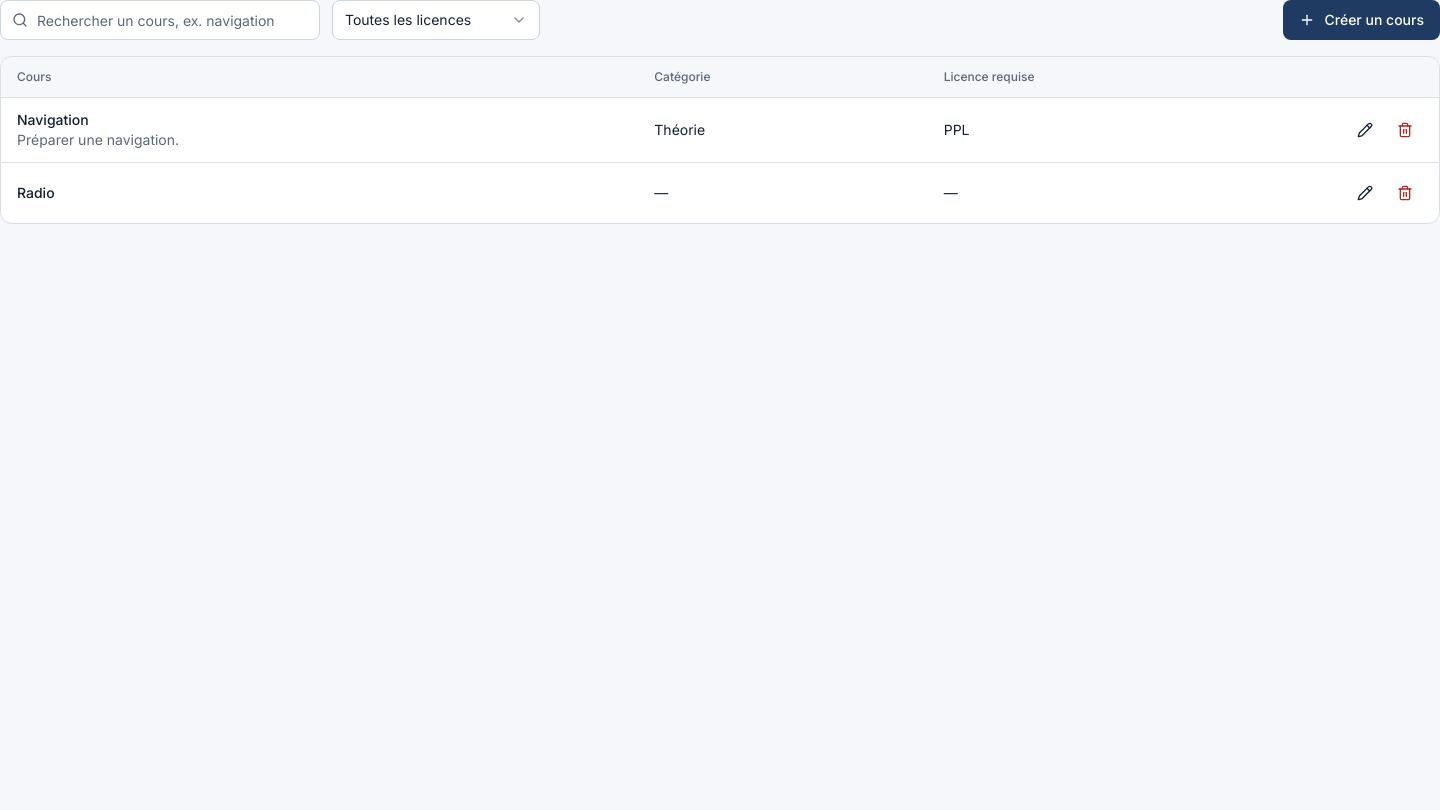
CourseManagement › demande confirmation, en nommant le cours, avant de le supprimer
Expected: the table is shown, [1,57,1439,222]
Click the button named "Supprimer le cours Radio": x=1405, y=192 [1387,174,1423,210]
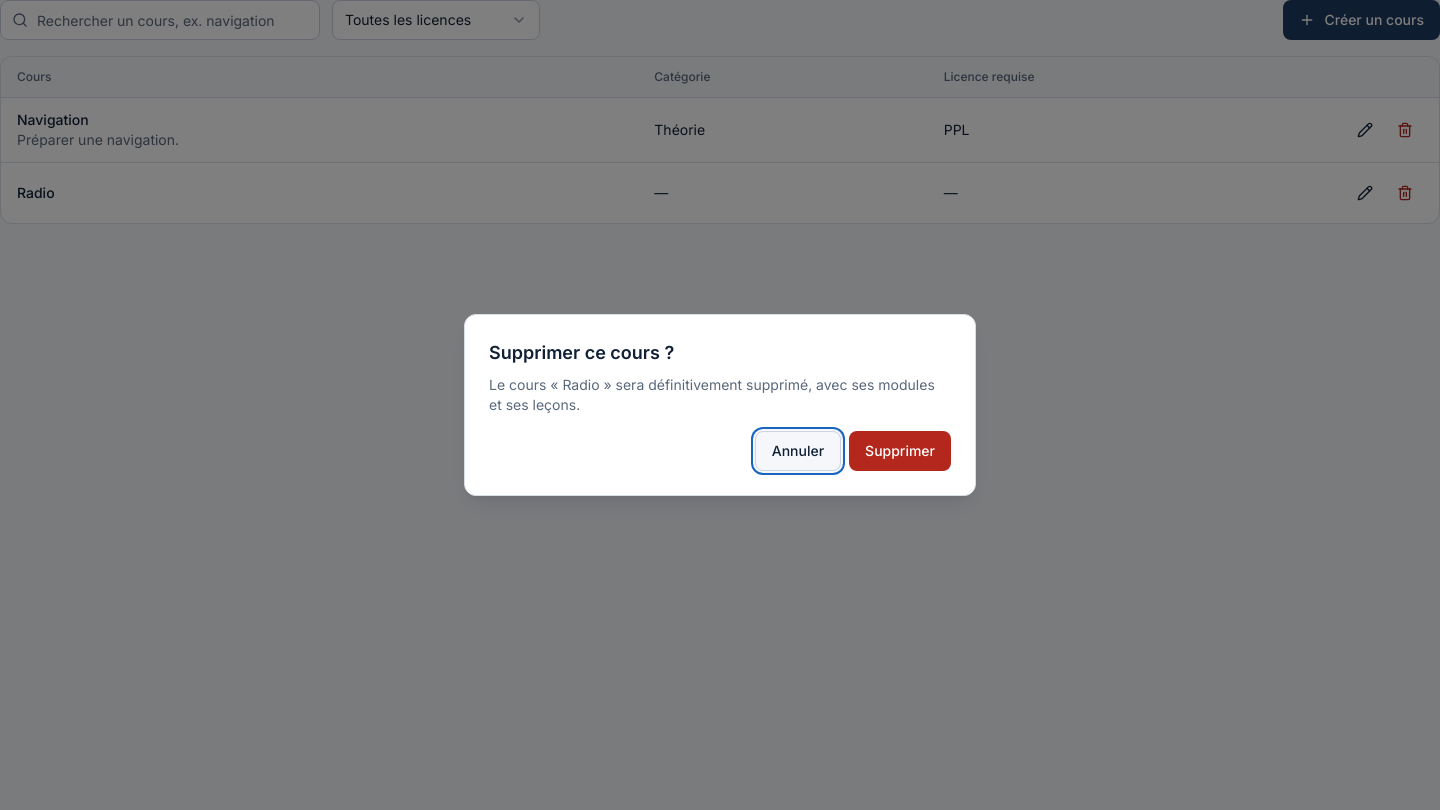
Expected: the text "Le cours « Radio » sera définitivement supprimé" is shown, [489,376,935,413]
Click the button "Supprimer": x=900, y=451 [849,431,951,471]
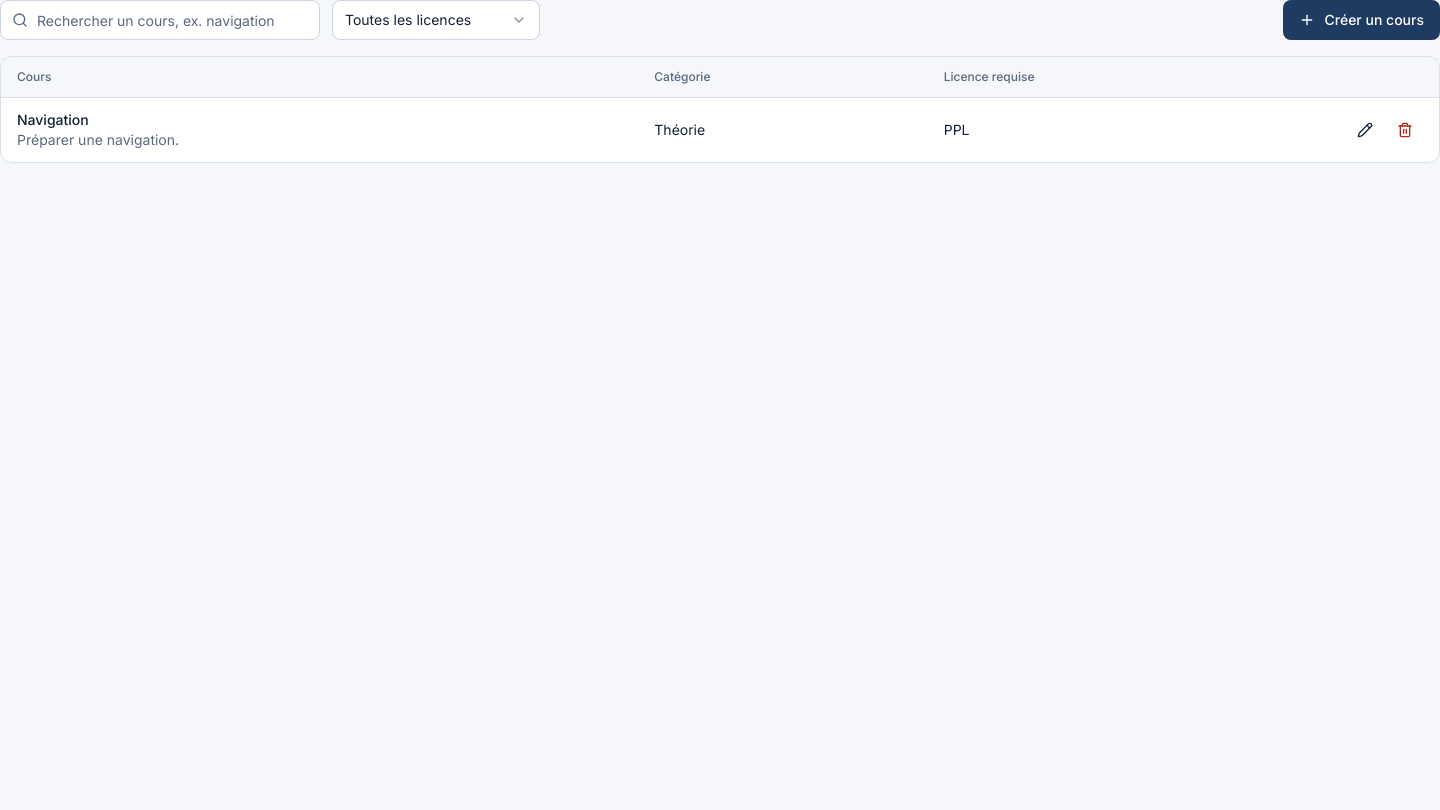
Expected: the text "Radio" is gone
